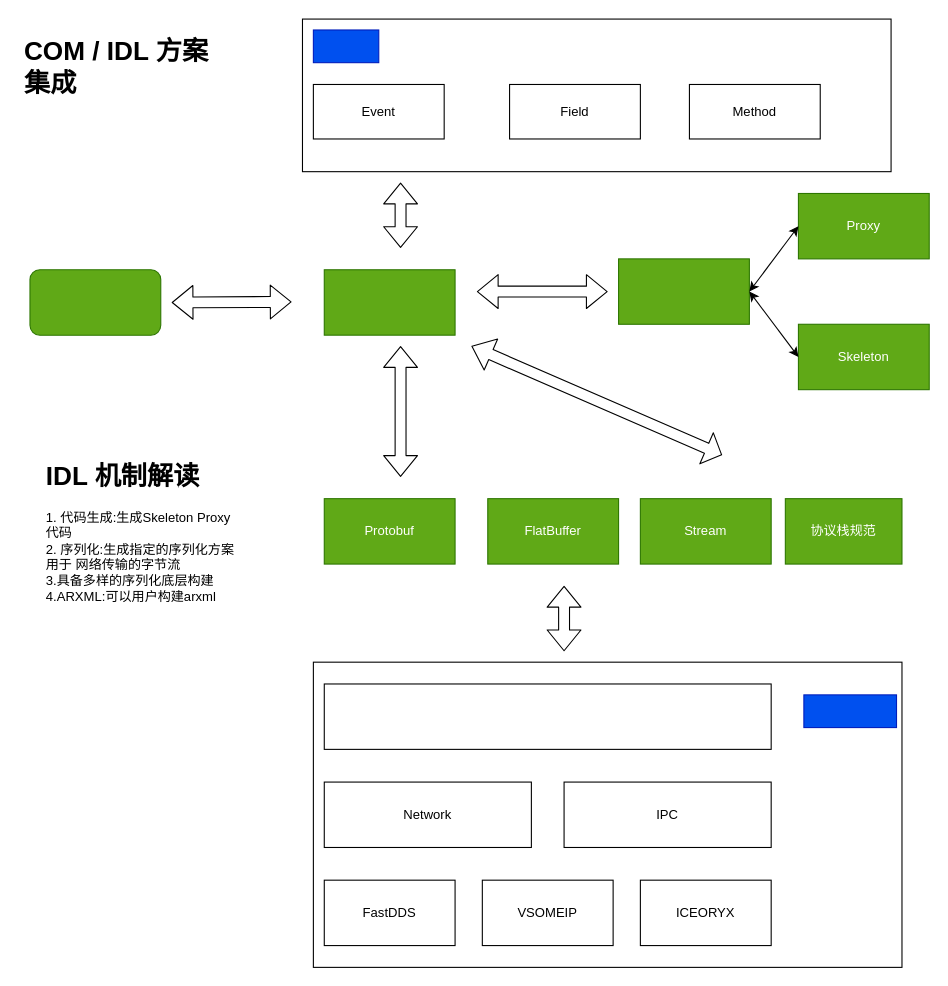
Image size: 948x986. Some labels were removed from this diagram. The centre of each missing label's shape, as x and y in pixels:
Code Generated: the point at 683,291
COM Implemation: the point at 850,711
COM Interface: the point at 345,46
IDL: the point at 389,302
NetworkBinding: the point at 547,716
Tools: the point at 95,302
